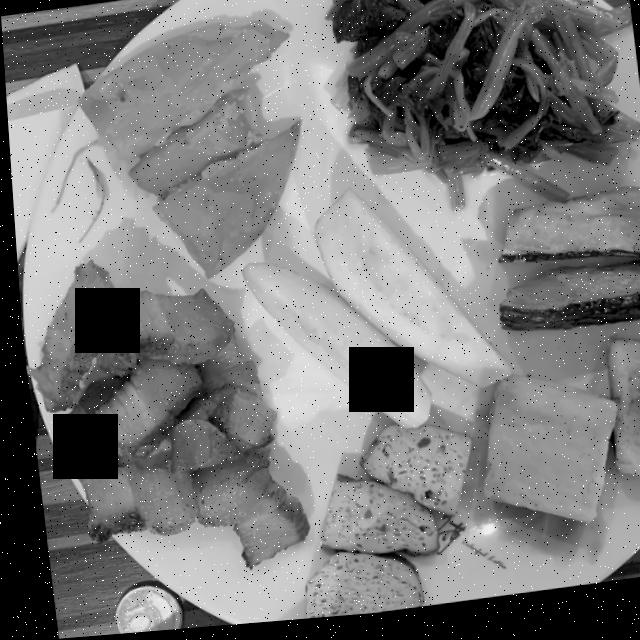coin: (106, 586, 174, 635)
creamy tofu -without sauce-: (476, 347, 640, 532)
firm tofu: (297, 432, 465, 623)
grilled pork: (21, 263, 300, 568)
guava -sliced-: (239, 195, 504, 434)
mustard greens: (327, 0, 640, 216)
pumpkin: (496, 197, 640, 271), (494, 270, 640, 339)
